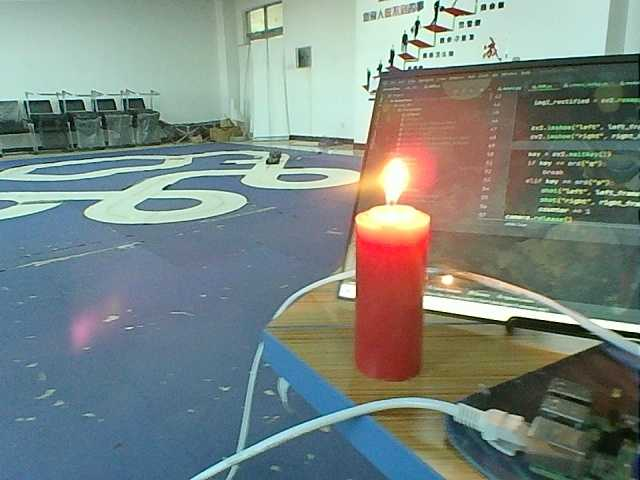candle: (352, 209, 436, 384)
fire: (367, 150, 422, 209)
